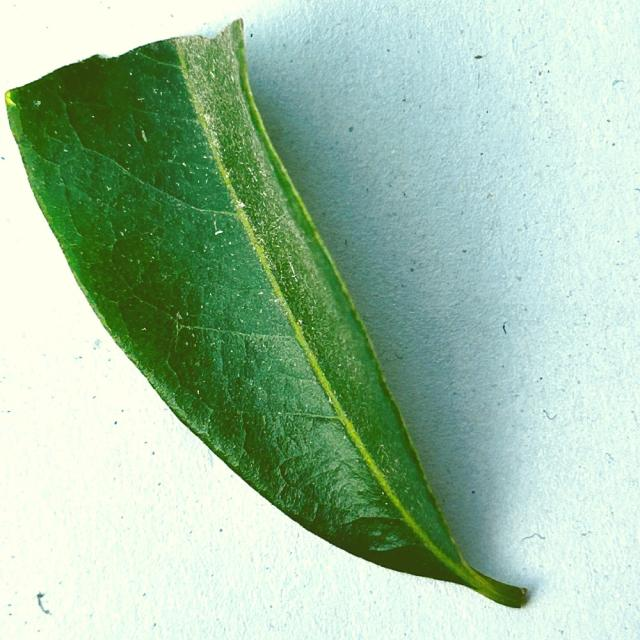Deficiency Leaf: (6, 22, 232, 74)
Lychee: (6, 22, 526, 607)
